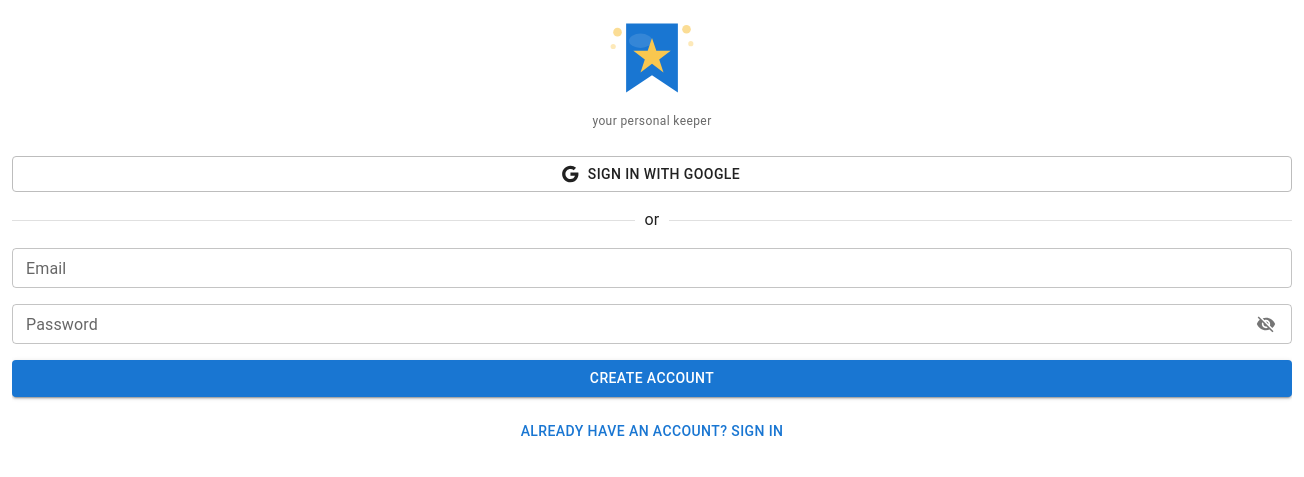
SignUpPage › shows an error when email is already in use
Type "test@example.com" into the field labelled "Email" at (652, 268), box [12,248,1292,288]
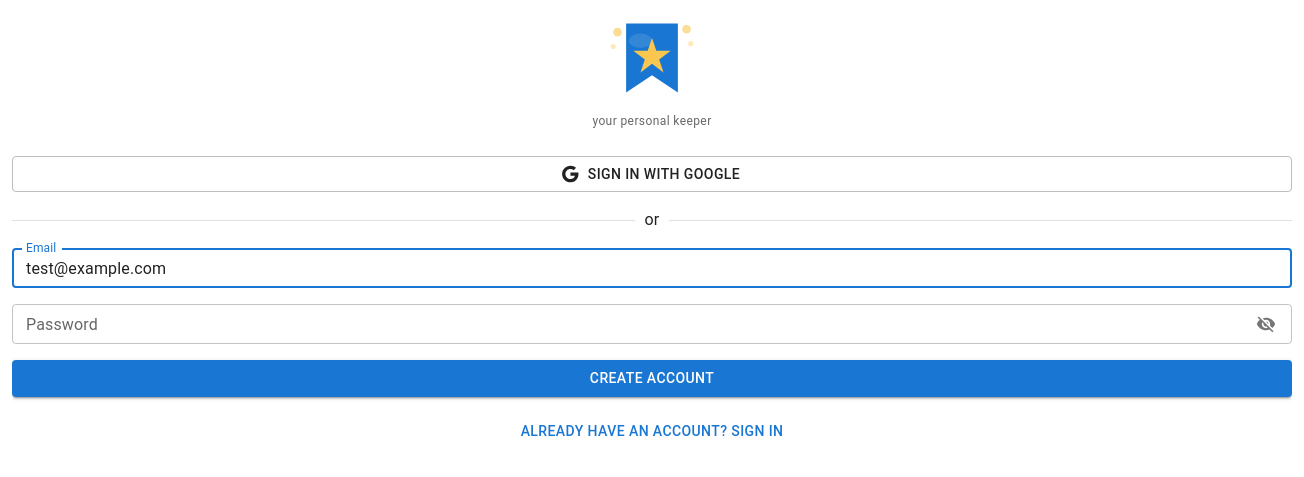
Type "ValidPass1!" into the password field labelled "Password" at (628, 324), box [12,304,1243,344]
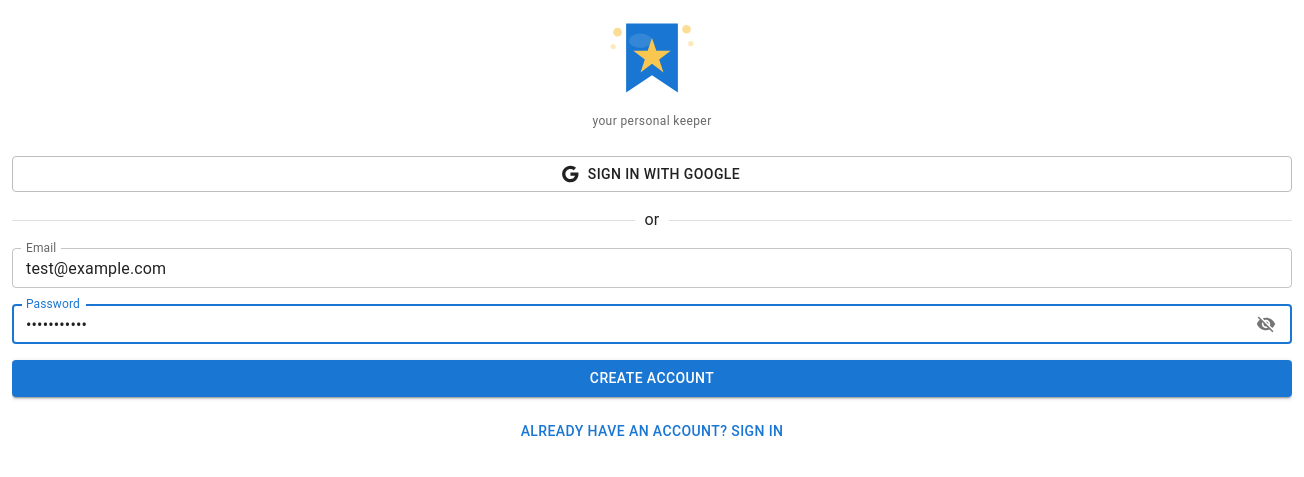
Click the button "Create account" at (652, 379), box [12,360,1292,397]
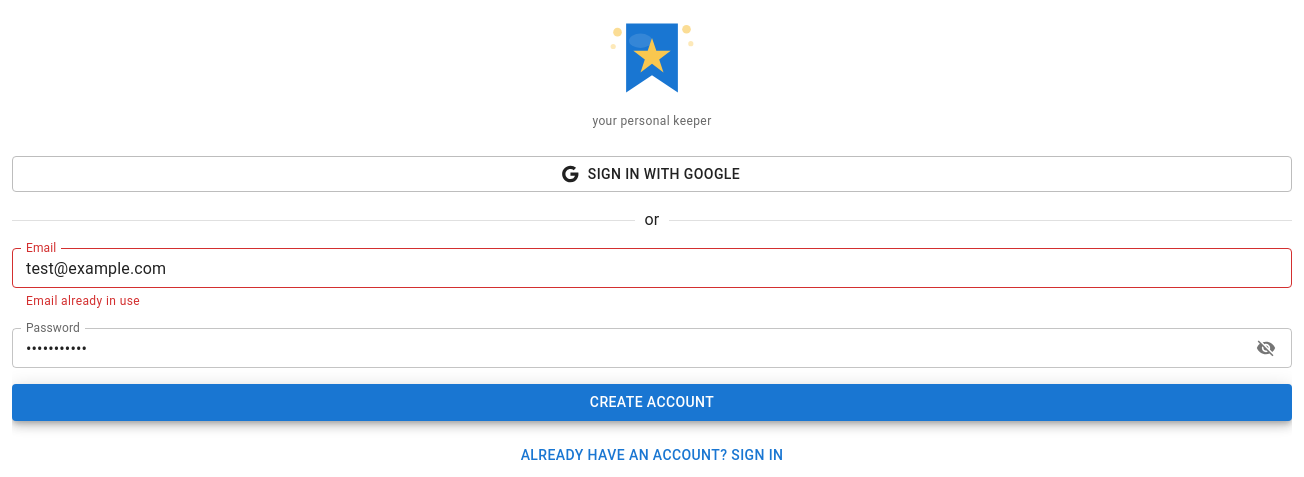
Now the text "Email already in use" is shown, box [26,294,140,308]
